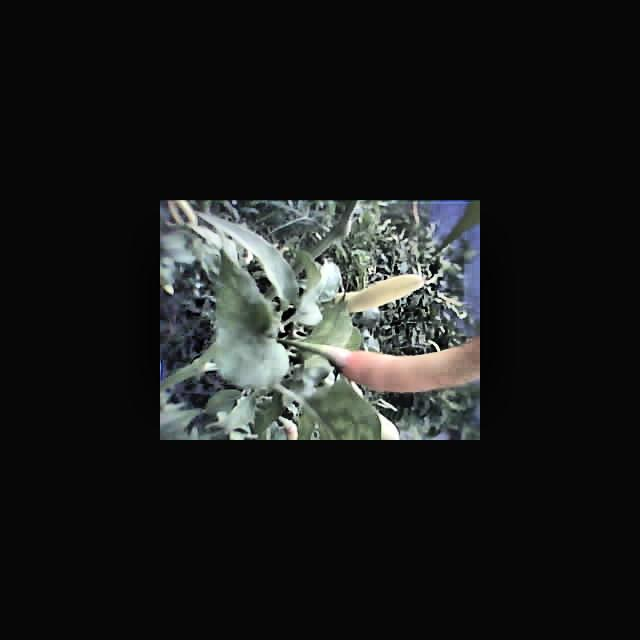Cabai: (325, 330, 480, 407)
